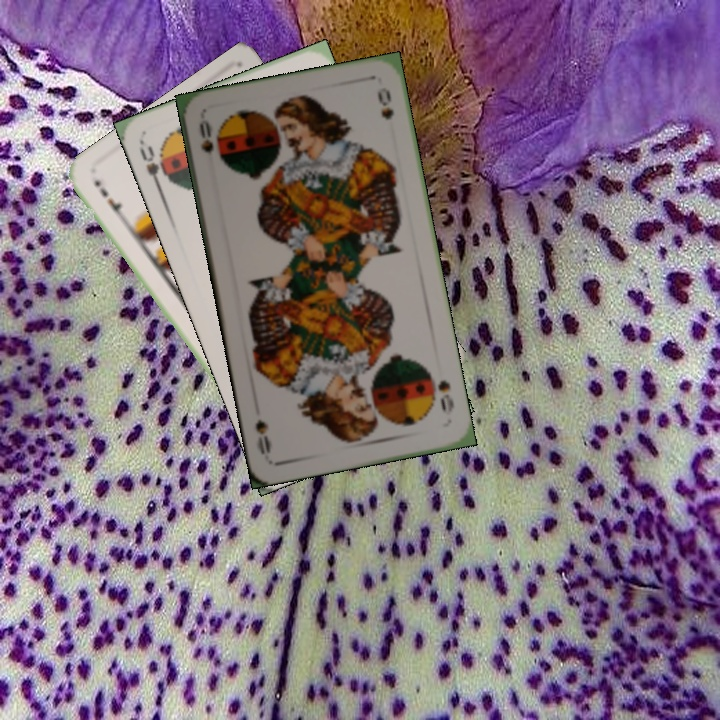E7: (89, 176, 130, 222)
SO: (135, 138, 173, 195), (426, 366, 457, 418), (195, 116, 216, 156)
